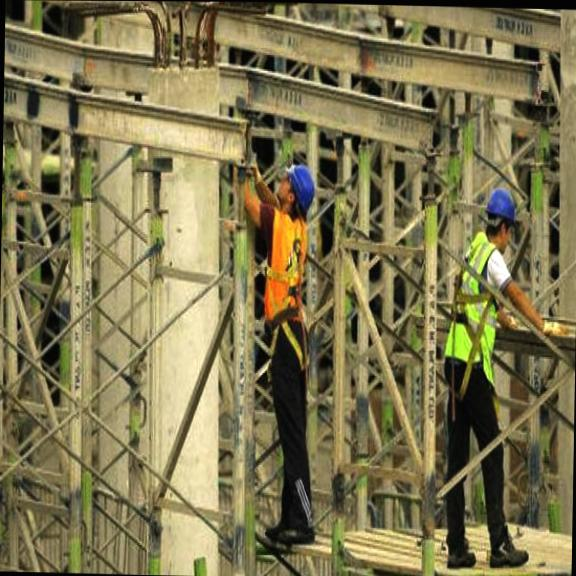safety_vest: (440, 232, 515, 390), (260, 210, 308, 317)
